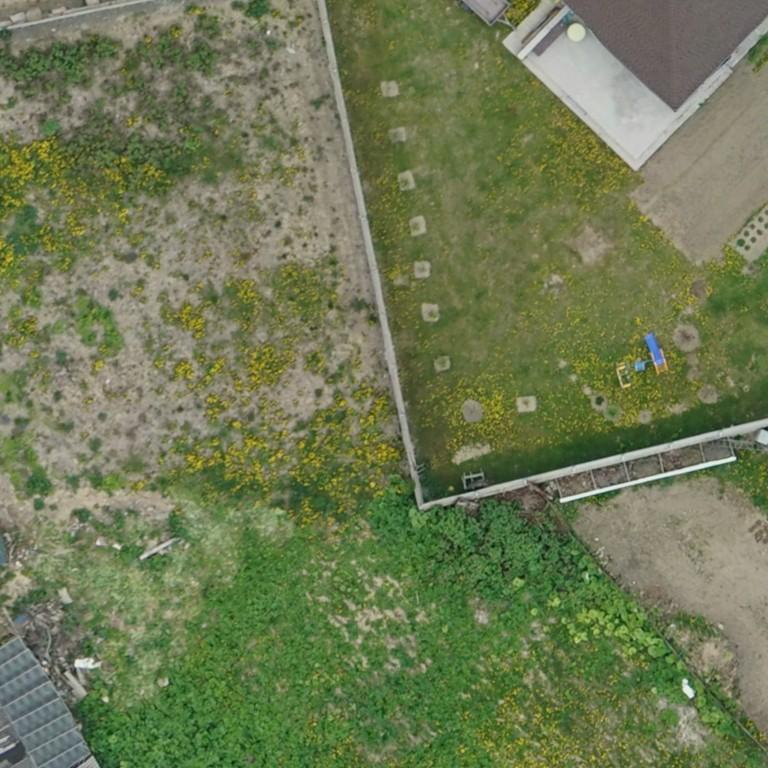hogweed: (80, 590, 311, 767), (368, 495, 559, 590)
